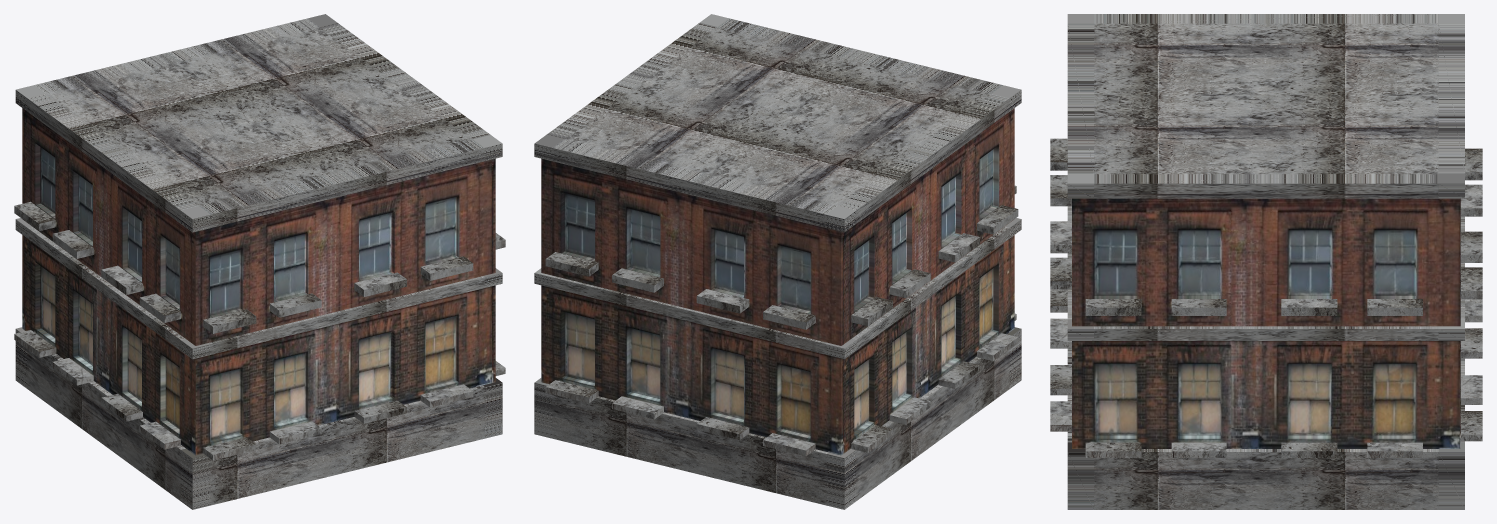
File: House.fbx
3 renders of one model, left to right at view 1: azimuth 30°, elevation 25°; view 2: azimuth 150°, elevation 25°; view 3: azimuth 270°, elevation 25°, orthographic. The views are drawn at different scales.
Parts seen in each view (by area): view 1: Cube.006; view 2: Cube.006; view 3: Cube.006.
Boxes of the visible parts, x1=… form: Cube.006: x1=14, y1=14, x2=505, y2=509; Cube.006: x1=534, y1=14, x2=1021, y2=509; Cube.006: x1=1050, y1=14, x2=1482, y2=509.
Bounding box in the file's own units: 222 × 185 × 222.
